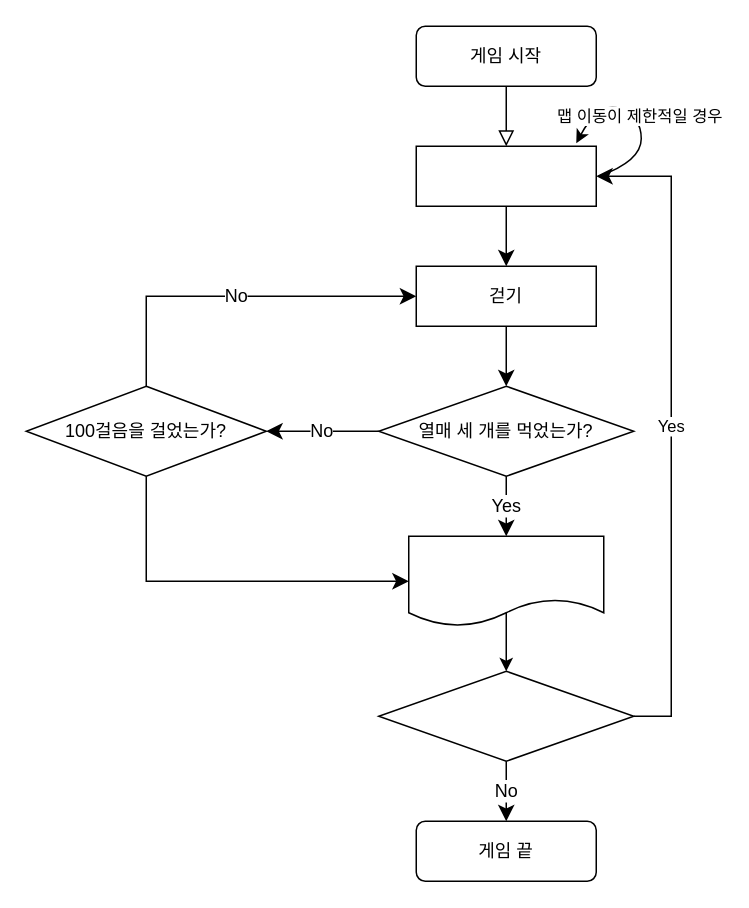
The diagram is 749 pixels wide and 908 high, and some of its shapes have lost their labels. The box of each missing label's shape, as (x1, y1, x2, y2) in pixels:
RECAP: (407, 535, 604, 626)
다시하기: (377, 670, 634, 761)
랜덤 맵 생성: (415, 145, 596, 206)
